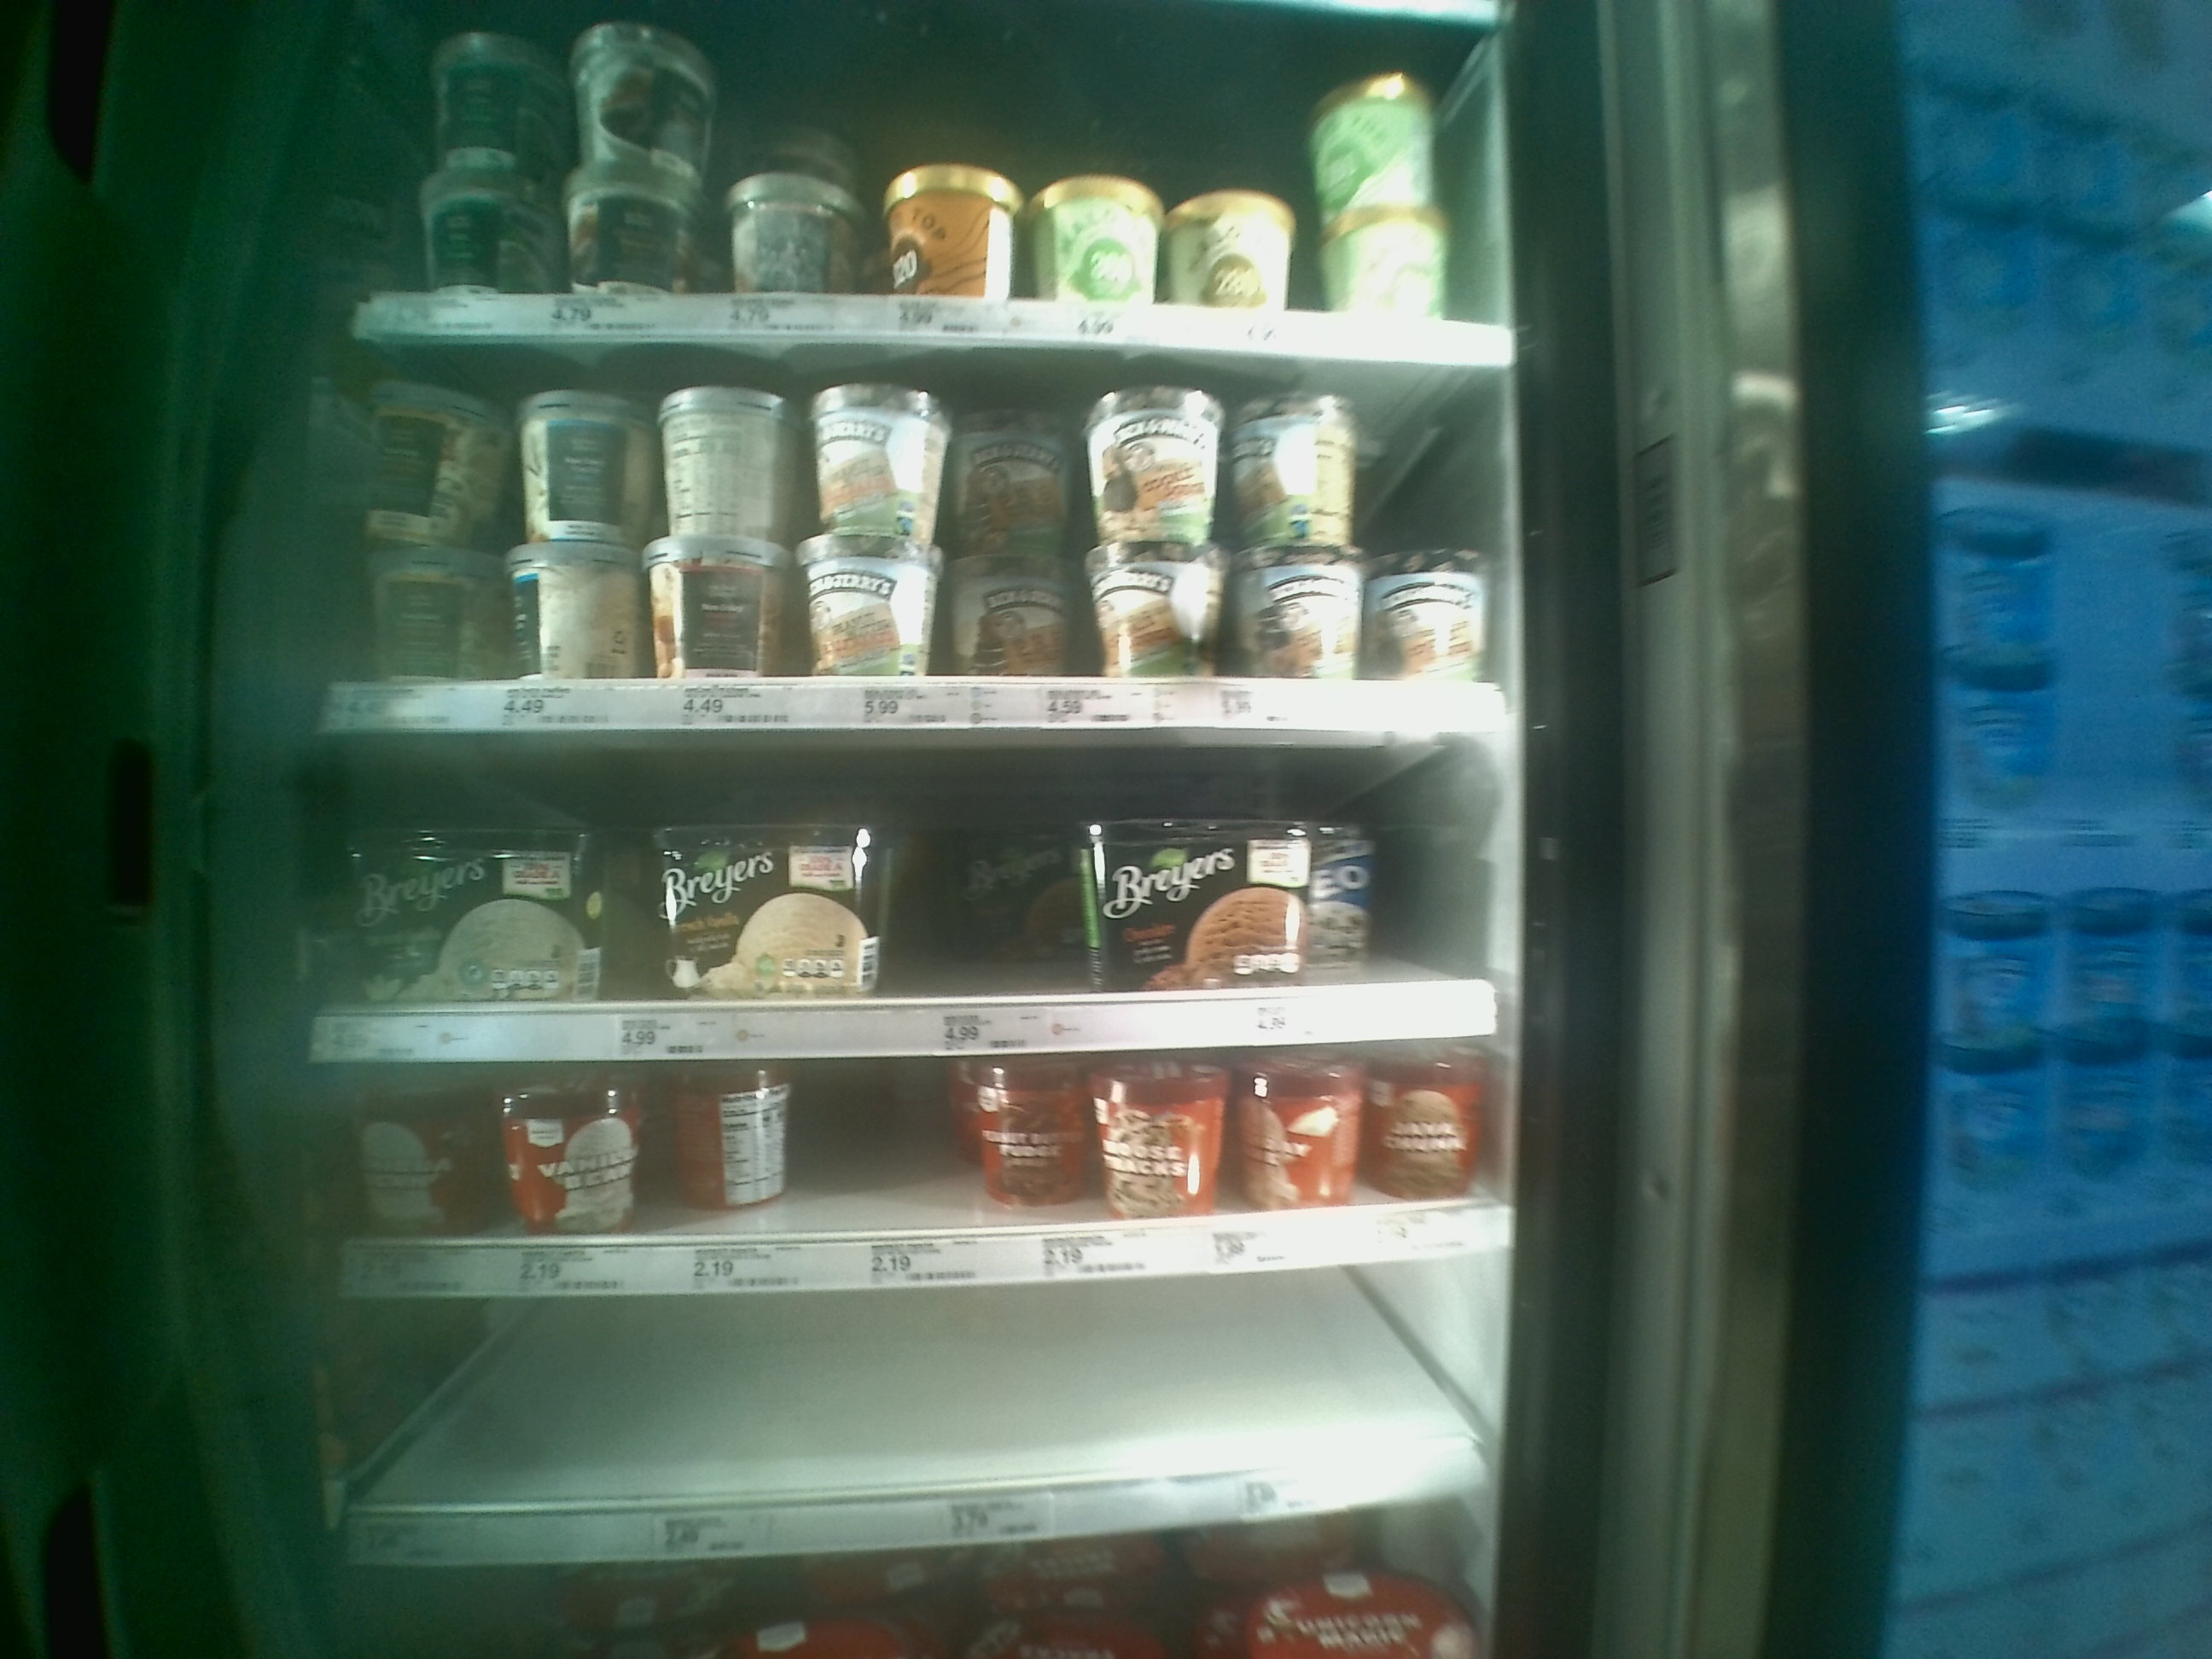ice-cream-shelf: (324, 328, 1510, 728), (319, 723, 1514, 1053), (310, 1058, 1521, 1303)
